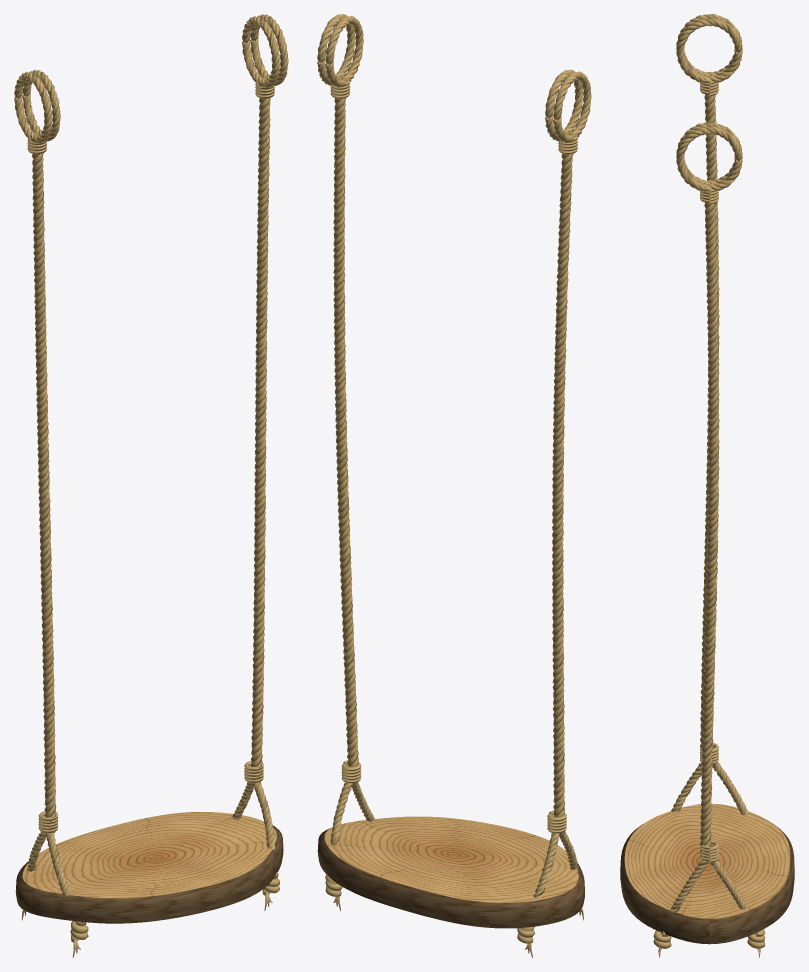
File: SM_ValleyRopeSeatSwing.fbx
The picture shows the model from 3 angles, left to right: view 1: azimuth 30°, elevation 25°; view 2: azimuth 150°, elevation 25°; view 3: azimuth 270°, elevation 25°; orthographic projection. The views are drawn at different scales.
Parts seen in each view (by area): view 1: SM_ValleyRopeSeatSwing; view 2: SM_ValleyRopeSeatSwing; view 3: SM_ValleyRopeSeatSwing.
Part boxes in pixels (left/top/right/bottom): SM_ValleyRopeSeatSwing: left=14, top=14, right=288, bottom=957; SM_ValleyRopeSeatSwing: left=317, top=14, right=591, bottom=957; SM_ValleyRopeSeatSwing: left=620, top=14, right=794, bottom=957.
Size of what is drawn, in the model's own units: 80.71 by 262 by 49.07.
1 material, 1 textured.
